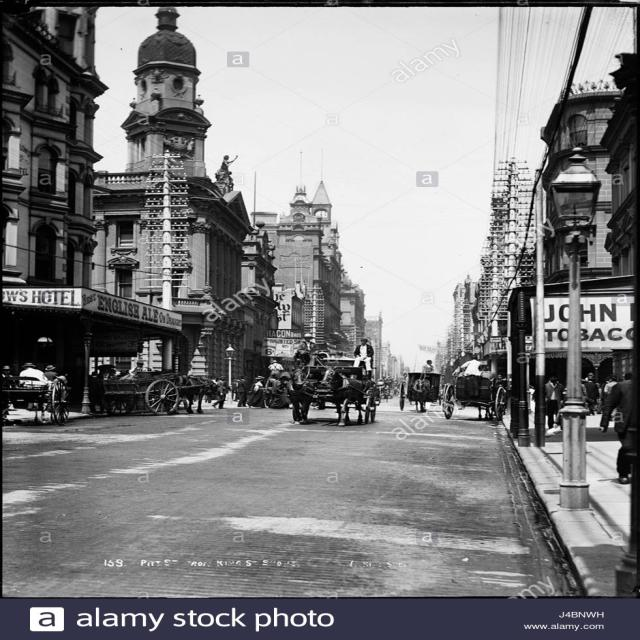body: (596, 378, 640, 485), (544, 373, 566, 430), (267, 375, 299, 409), (458, 354, 483, 388), (352, 337, 374, 375), (374, 375, 406, 401), (296, 332, 320, 366), (86, 370, 105, 412), (19, 362, 48, 389), (247, 375, 268, 409), (583, 375, 600, 416), (118, 360, 149, 382), (596, 376, 613, 415), (210, 375, 229, 409), (579, 377, 594, 416), (222, 376, 241, 404), (267, 376, 282, 408), (235, 374, 248, 407), (421, 359, 435, 387), (0, 365, 16, 389), (268, 359, 285, 377), (552, 408, 562, 437), (43, 365, 60, 381), (604, 376, 618, 395), (584, 372, 596, 381), (623, 372, 634, 381)
